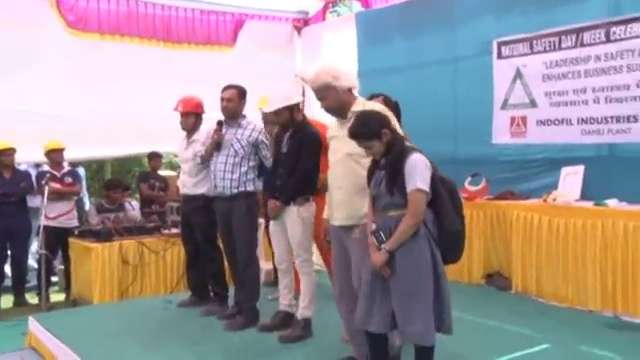helmet: (257, 86, 303, 114), (174, 95, 206, 115), (43, 142, 66, 156), (0, 140, 17, 155)
helmet_off: (340, 97, 401, 172), (302, 65, 357, 108), (216, 84, 249, 120), (98, 178, 125, 206), (143, 152, 163, 177)
helmet_on: (258, 89, 304, 132), (174, 94, 206, 138), (42, 141, 66, 171), (0, 139, 17, 175)
person: (341, 94, 474, 360), (303, 60, 389, 354), (199, 91, 275, 321), (254, 90, 318, 343), (170, 92, 231, 322), (33, 143, 83, 310), (3, 135, 33, 315), (86, 176, 140, 237), (135, 152, 172, 229)
